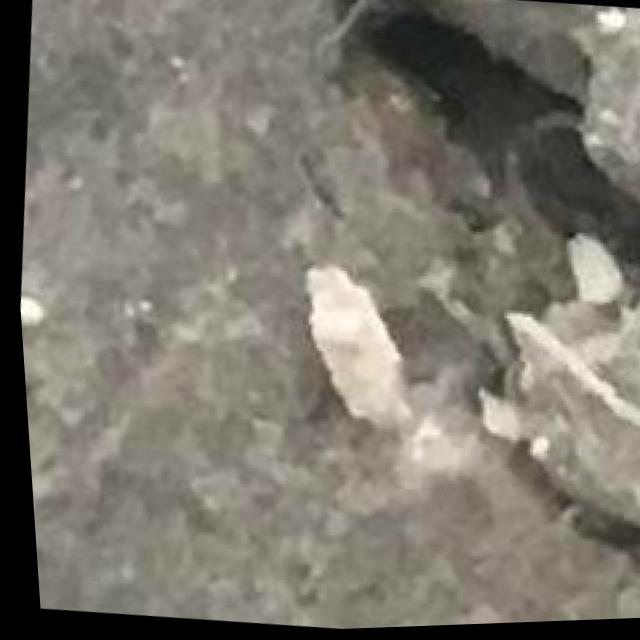Crack: (271, 0, 640, 582)
